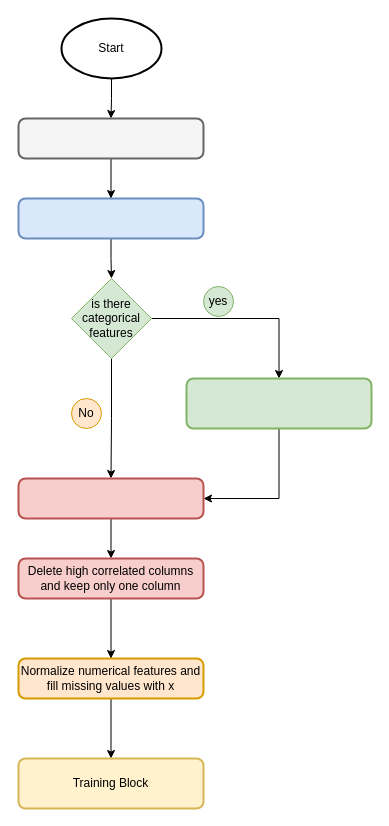
The diagram is 389 pixels wide and 826 high, and some of its shapes have lost their labels. Each missing label, with the centre of its shape:
"Delete columns that have constant values in all rows" belongs at (x=110, y=498).
"Encode categorical features and fill missing values with a random number" belongs at (x=278, y=403).
"Load data" belongs at (x=110, y=138).
"Split data to numerical and categorical features" belongs at (x=110, y=218).
